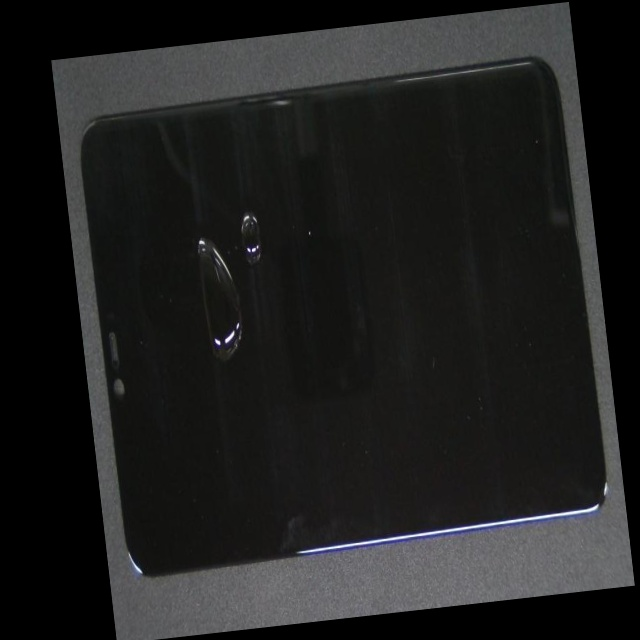oil: (145, 109, 341, 362), (158, 155, 301, 363)
